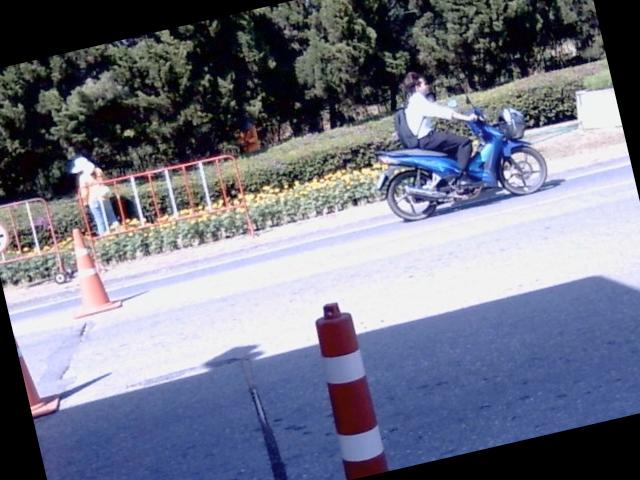motor: (376, 107, 546, 220)
no-helmet: (401, 71, 428, 96), (71, 154, 93, 172)
person: (403, 72, 476, 186), (71, 155, 118, 234)
